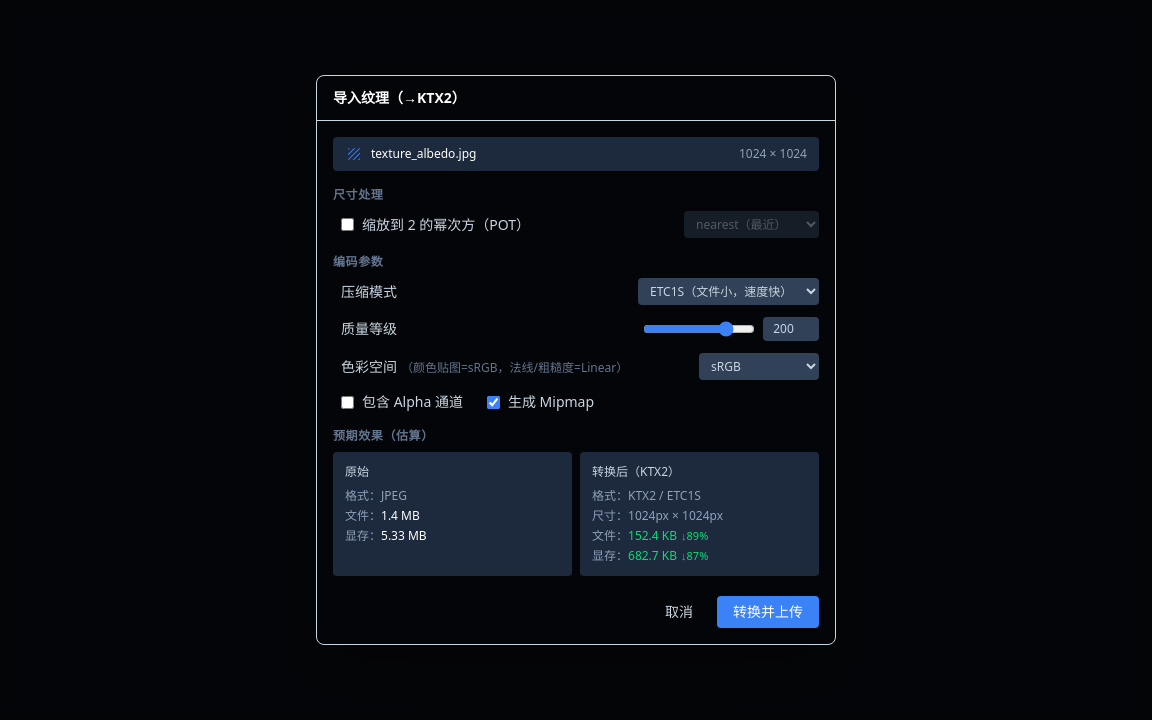
Test: TextureImportDialog › POT resize toggle enables potMode selector
Check: the dropdown next to "缩放到 2 的幂次方（POT）" is disabled, box [684,211,819,238]
Note: 勾选 POT 后 potMode 可用
Click the checkbox labelled "缩放到 2 的幂次方（POT）" at [348, 224], box [341,218,354,231]
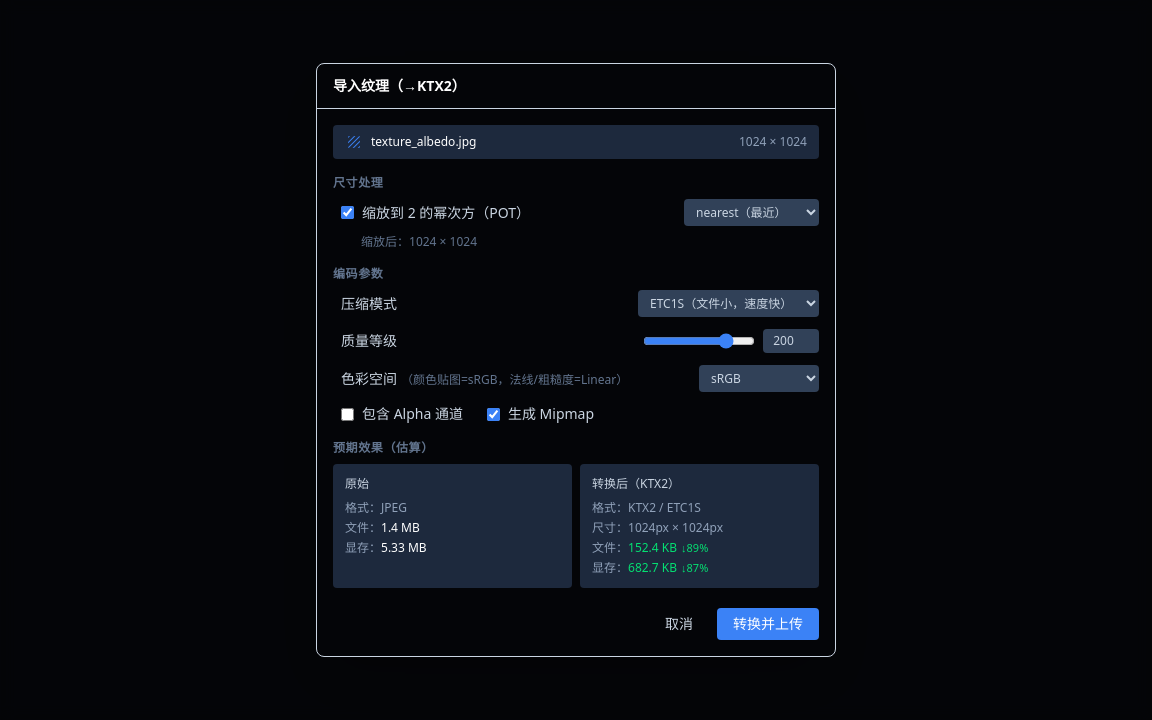
Check: the dropdown next to "缩放到 2 的幂次方（POT）" is enabled, box [684,199,819,226]
